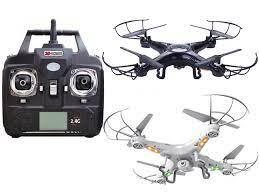drone: (103, 93, 258, 192), (101, 19, 259, 80)
